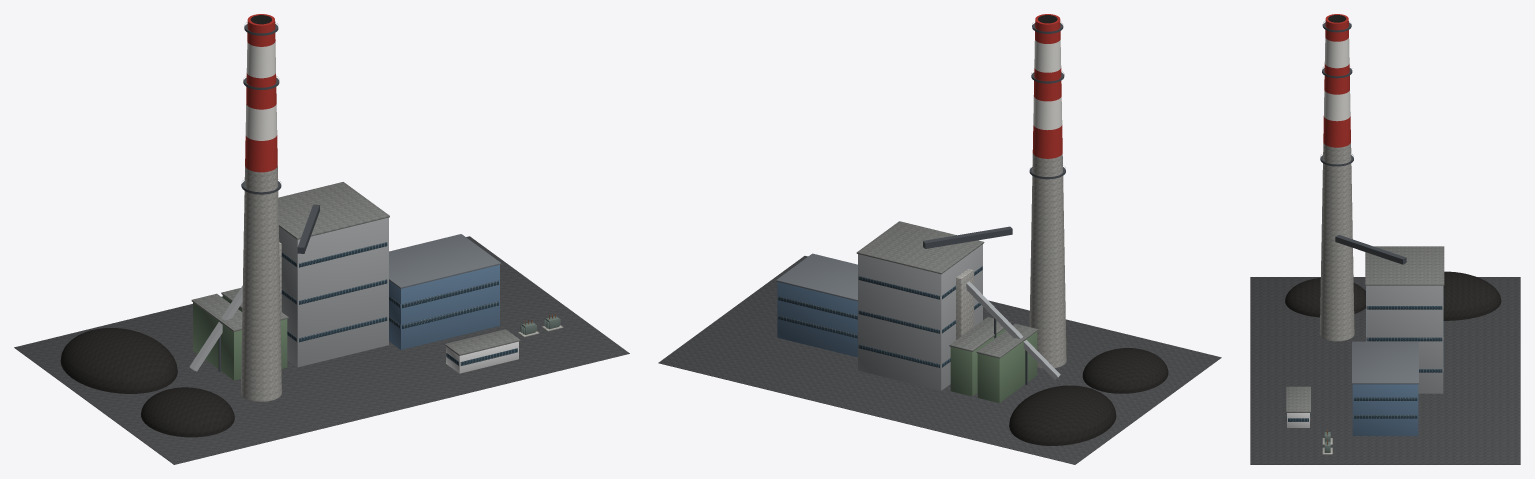
The model's file is coal-fired-power-plant.glb.
The picture shows the model from 3 angles, left to right: view 1: azimuth 30°, elevation 25°; view 2: azimuth 150°, elevation 25°; view 3: azimuth 270°, elevation 25°; orthographic projection. The views are drawn at different scales.
Parts seen in each view (by area): view 1: Coal_Fired_Power_Plant; view 2: Coal_Fired_Power_Plant; view 3: Coal_Fired_Power_Plant.
Part boxes in pixels (x1,y1,x2,y2): Coal_Fired_Power_Plant: (14, 14, 629, 464); Coal_Fired_Power_Plant: (658, 14, 1221, 464); Coal_Fired_Power_Plant: (1250, 14, 1520, 464).
Bounding box in the file's own units: 230 × 180 × 140.
Materials: 16 (10 with a texture image).
